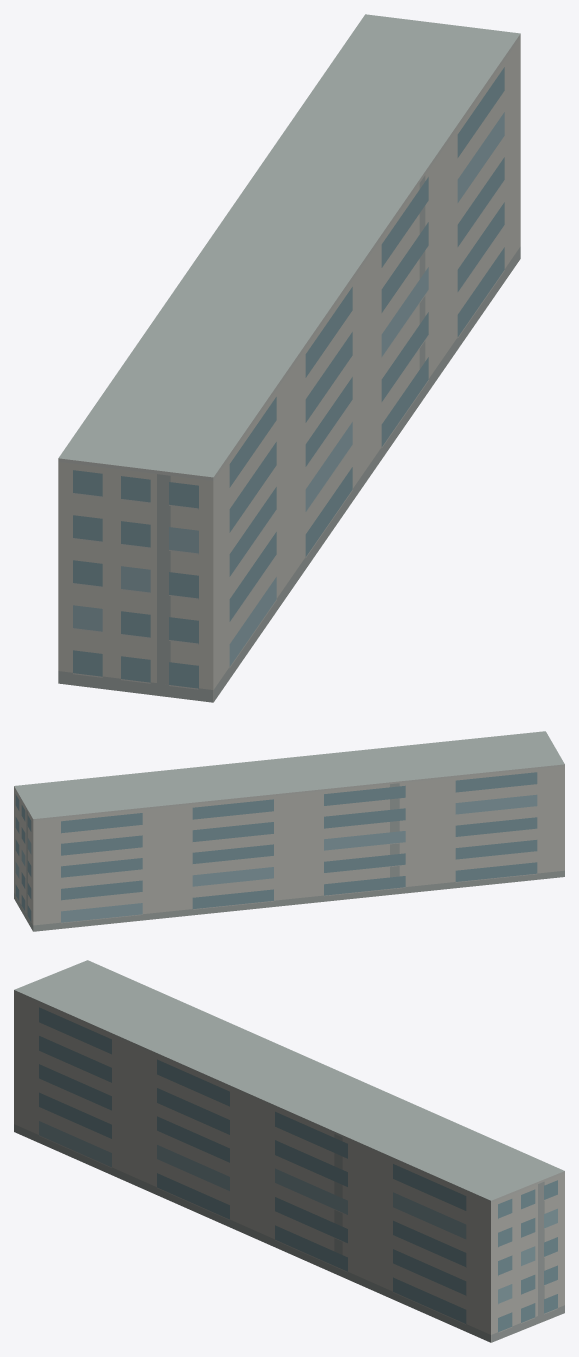
File: residential-67a01774-64ec-42f2-8282-97876ab77483.glb
The picture shows the model from 3 angles, top to bottom: view 1: azimuth 30°, elevation 25°; view 2: azimuth 150°, elevation 25°; view 3: azimuth 270°, elevation 25°; orthographic projection. The views are drawn at different scales.
Visible parts, largest first — view 1: residential-67a01774-64ec-42f2-8282-97876ab77483.tmp; view 2: residential-67a01774-64ec-42f2-8282-97876ab77483.tmp; view 3: residential-67a01774-64ec-42f2-8282-97876ab77483.tmp.
Boxes of the visible parts, x1,y1,x2,y2 form: residential-67a01774-64ec-42f2-8282-97876ab77483.tmp: (58, 14, 520, 702); residential-67a01774-64ec-42f2-8282-97876ab77483.tmp: (14, 731, 564, 931); residential-67a01774-64ec-42f2-8282-97876ab77483.tmp: (14, 960, 564, 1342).
Bounding box in the file's own units: 55.43 × 15.25 × 53.6.
